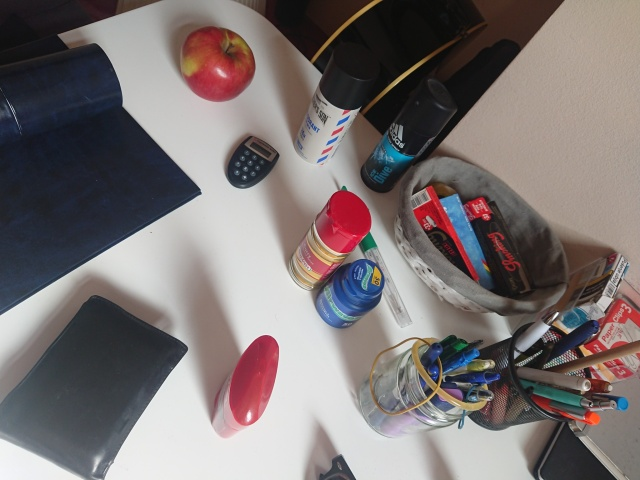Kotanyi Curry Spices Mix 70g: (285, 188, 374, 293)
